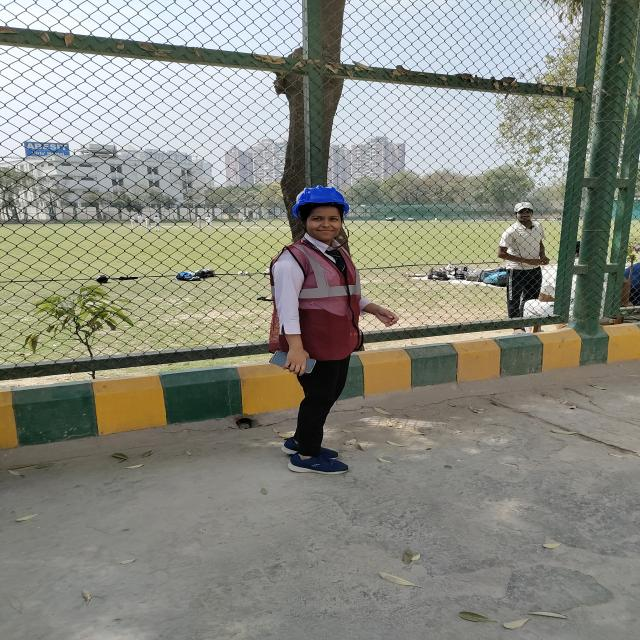safe: (269, 186, 364, 475)
unsafe: (499, 200, 549, 295)
